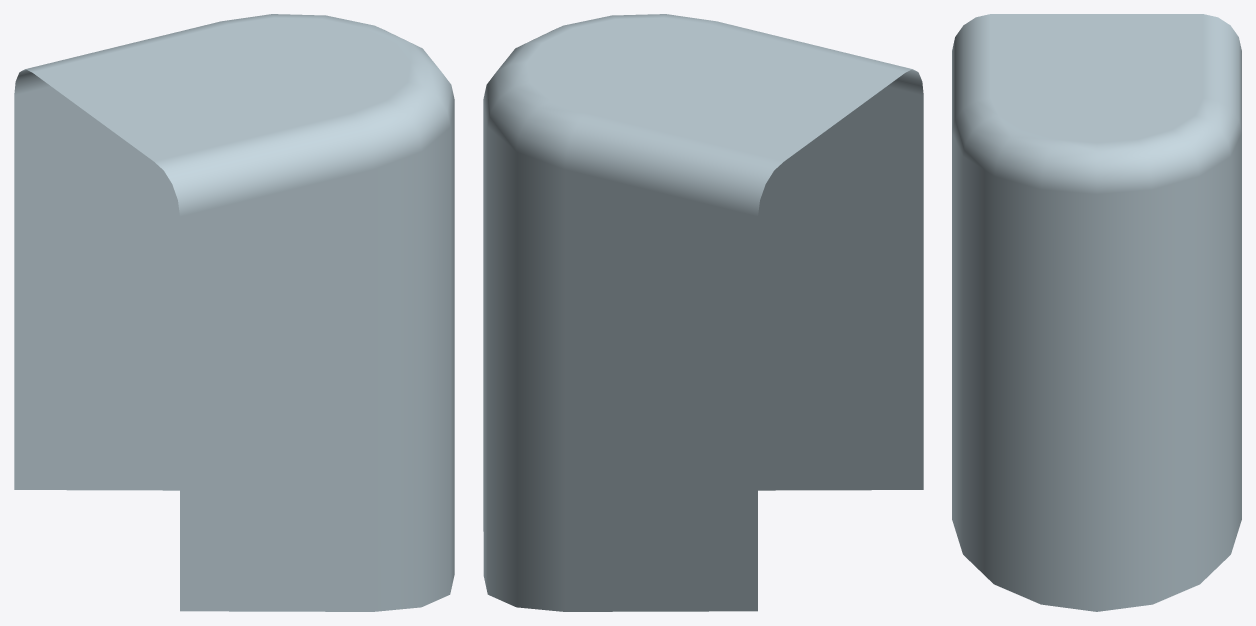
The model's file is Pfen3DE45D4A9opp_58_Pfen3DE45D4A9opp_Mesh_1.obj.
The picture shows the model from 3 angles, left to right: view 1: azimuth 30°, elevation 25°; view 2: azimuth 150°, elevation 25°; view 3: azimuth 270°, elevation 25°; orthographic projection. The views are drawn at different scales.
Visible parts, largest first — view 1: Mesh_Diffuse_11; view 2: Mesh_Diffuse_11; view 3: Mesh_Diffuse_11.
Boxes of the visible parts, x1,y1,x2,y2 form: Mesh_Diffuse_11: [14, 14, 454, 611]; Mesh_Diffuse_11: [483, 14, 923, 611]; Mesh_Diffuse_11: [952, 14, 1241, 611].
Size of the model in its own units: 0.00712 by 0.0103 by 0.006.
